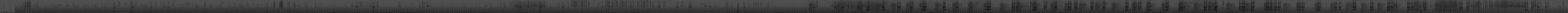Moan: (130, 0, 133, 13), (866, 0, 869, 13), (922, 0, 925, 13), (986, 0, 989, 13), (1011, 0, 1014, 13), (1178, 0, 1181, 13), (1203, 0, 1206, 13), (113, 0, 115, 13), (925, 0, 927, 13), (1033, 0, 1035, 13), (266, 0, 267, 13), (704, 0, 705, 13), (1353, 0, 1354, 13)
